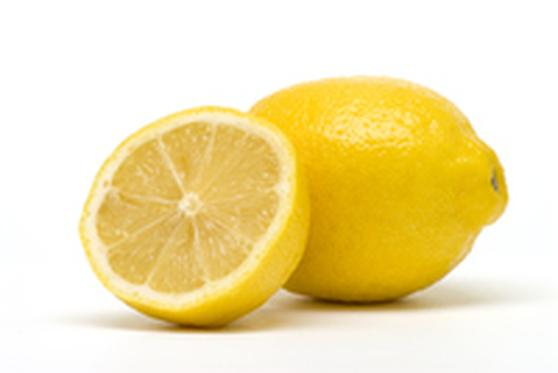lemon: (247, 74, 521, 322)
